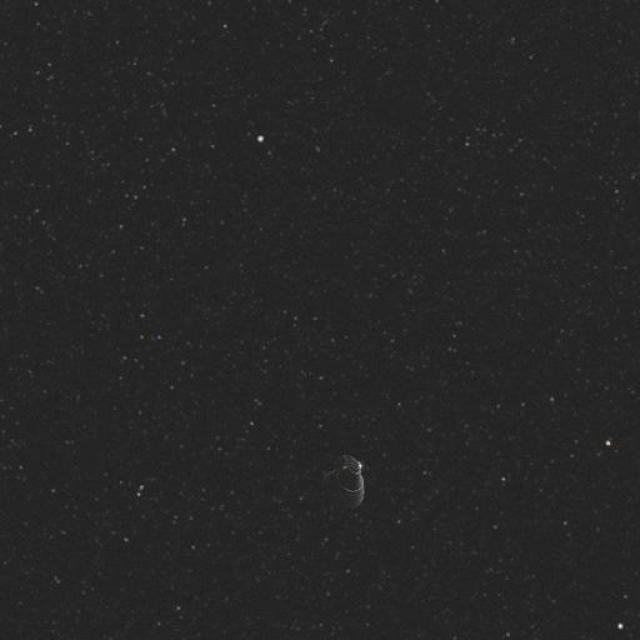debris: (314, 439, 386, 518)
